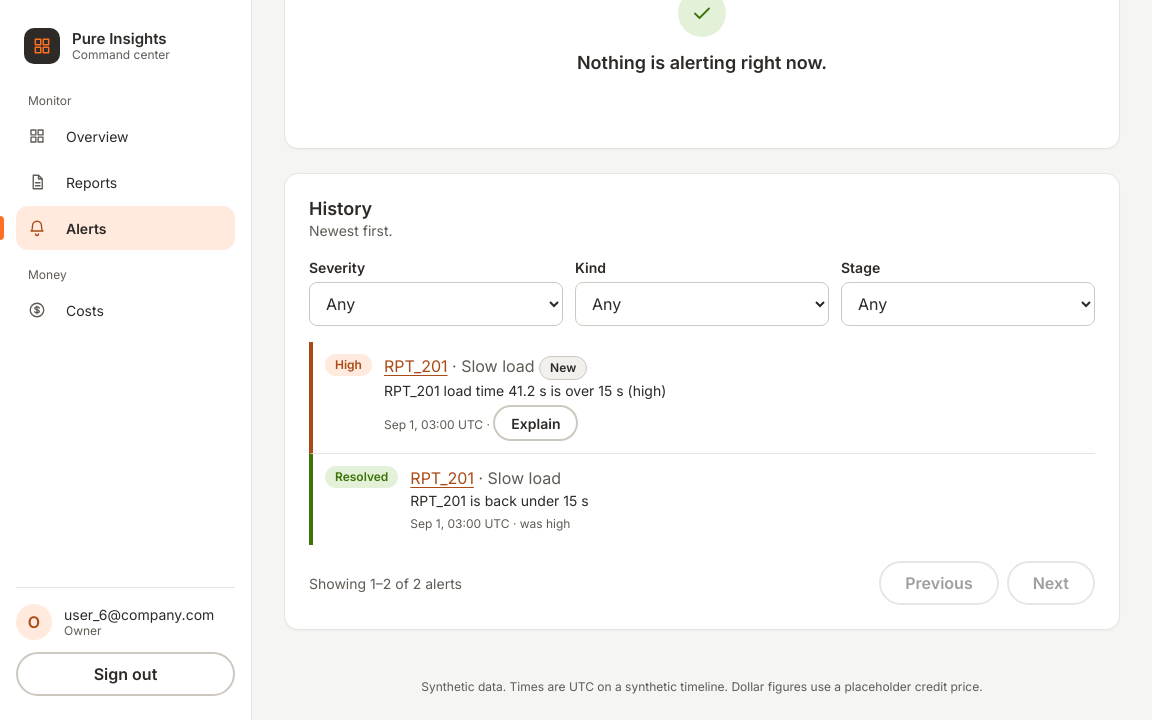
Test: Explain this alert › a withheld suggestion says it did not match the data and shows nothing else
(page scrolled)
Click the button with aria-label "Explain alert 1": (536, 423) [493,405,578,441]
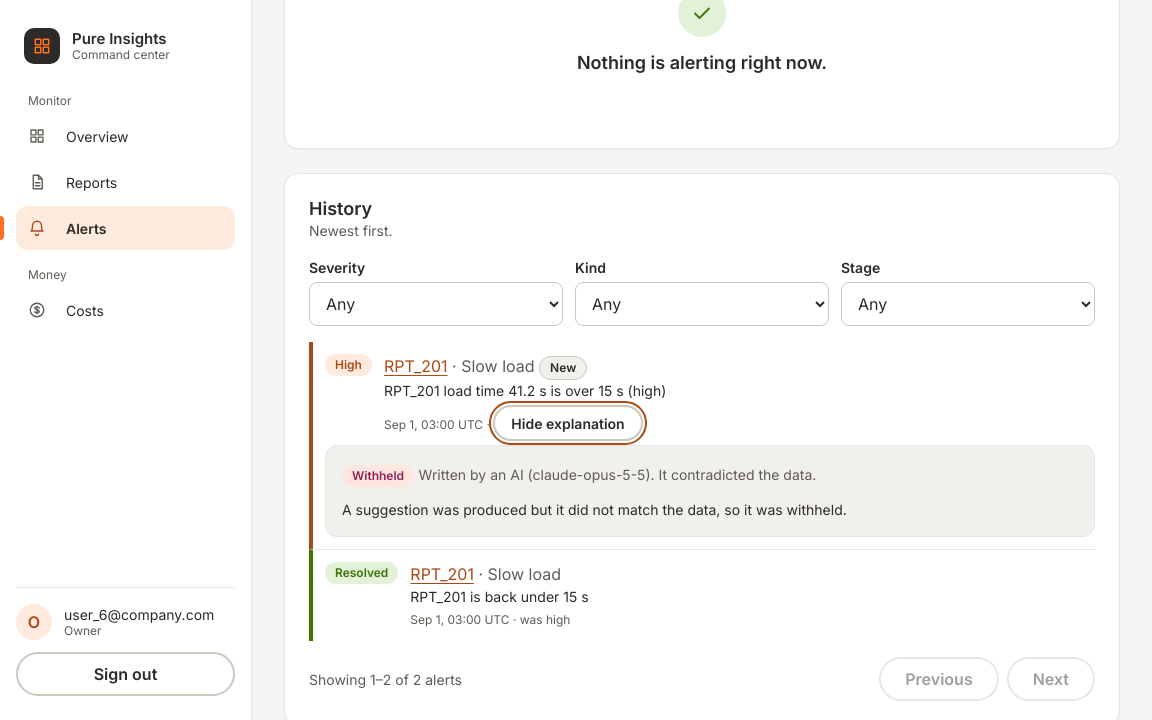
Now the text "Withheld" is shown, box [342,465,414,487]
Now the text "did not match the data" is shown, box [342,501,847,518]
